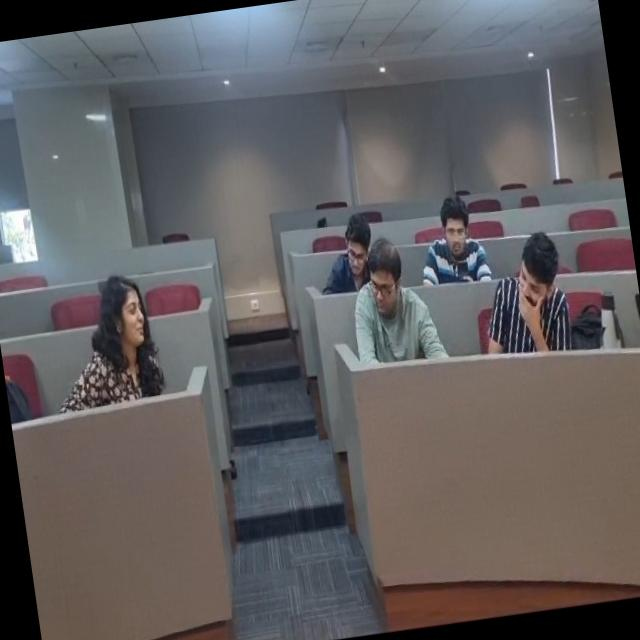cheating: (65, 237, 175, 397), (402, 159, 496, 300), (476, 226, 586, 346), (346, 248, 436, 358)
non-cheating: (314, 184, 390, 296)
